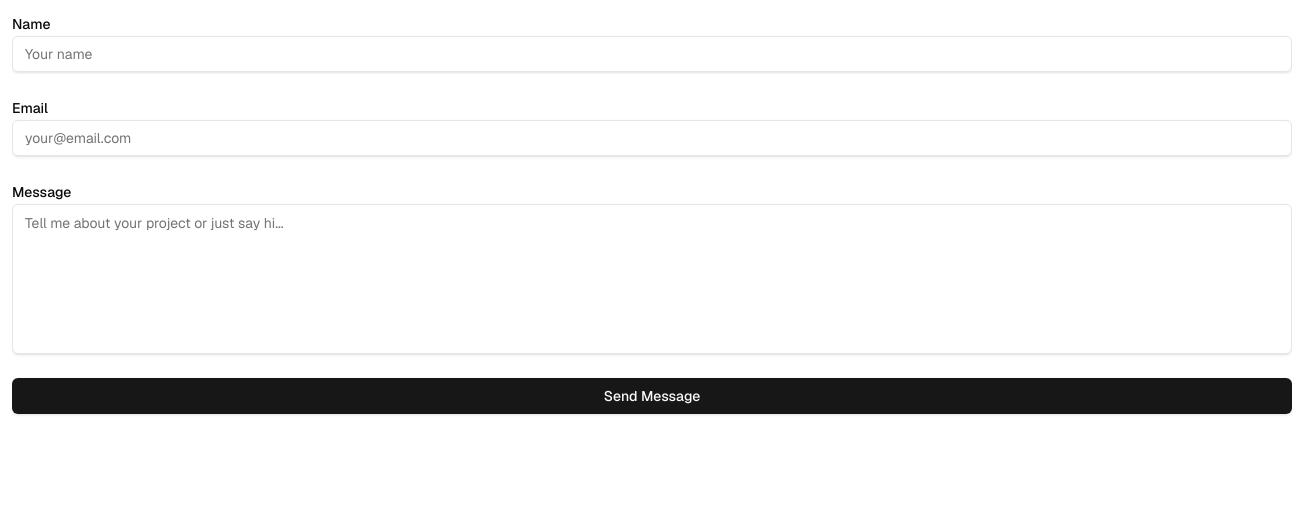
ContactForm › should validate required fields
The image size is (1304, 514).
Click the button "Send Message" at [652, 396], box x1=12 y1=378 x2=1292 y2=414
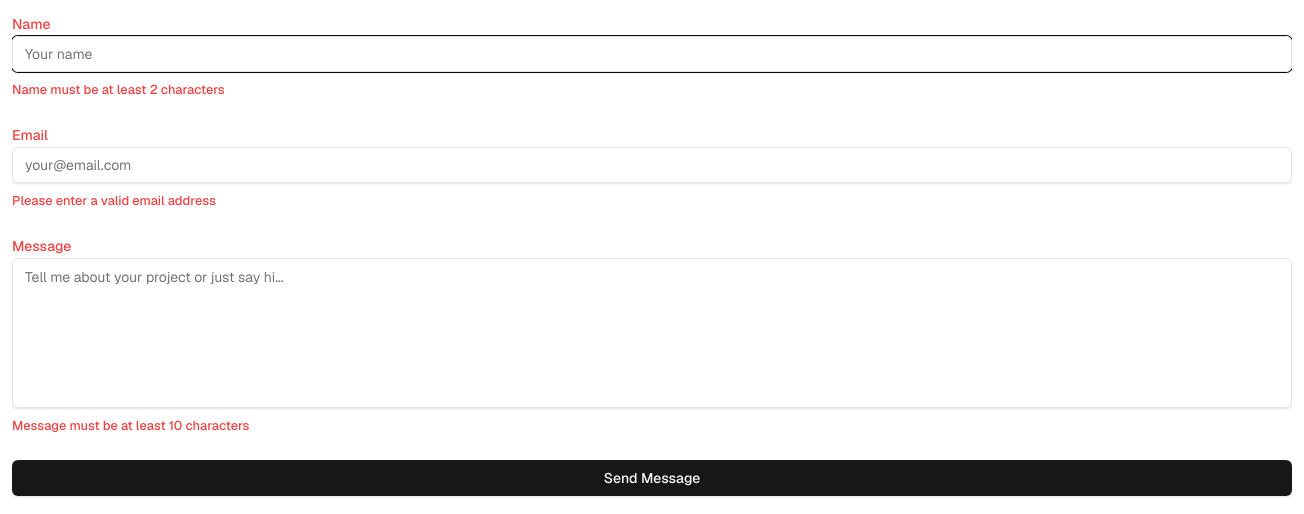
Expected: the text "Name must be at least 2 characters" is shown, x1=12 y1=81 x2=225 y2=98
